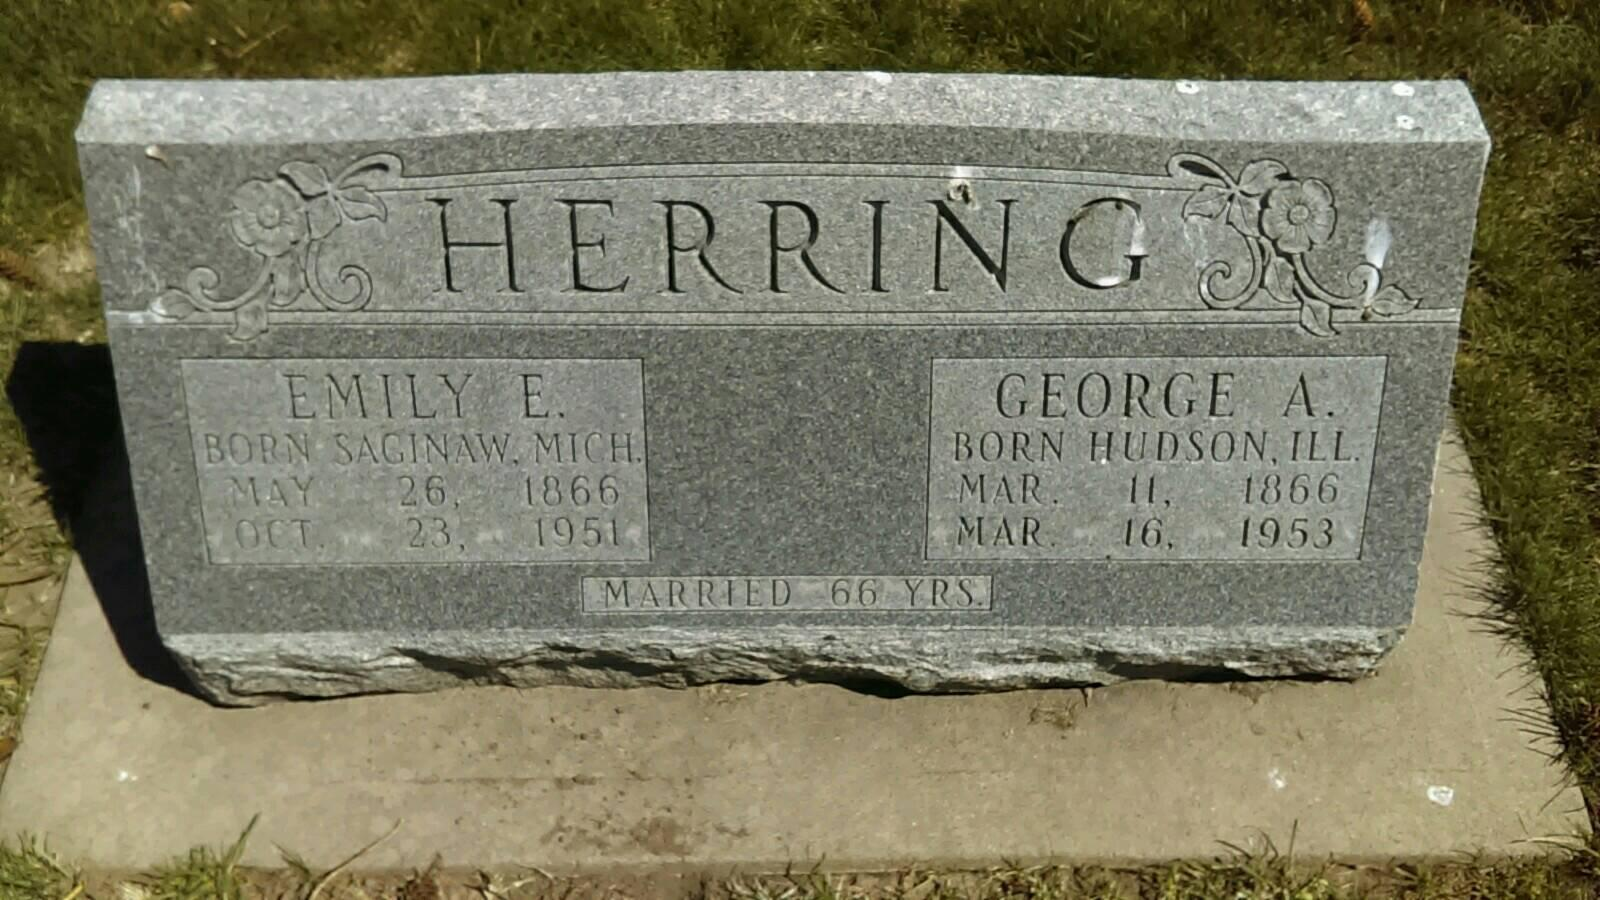upright: (0, 16, 1580, 892)
